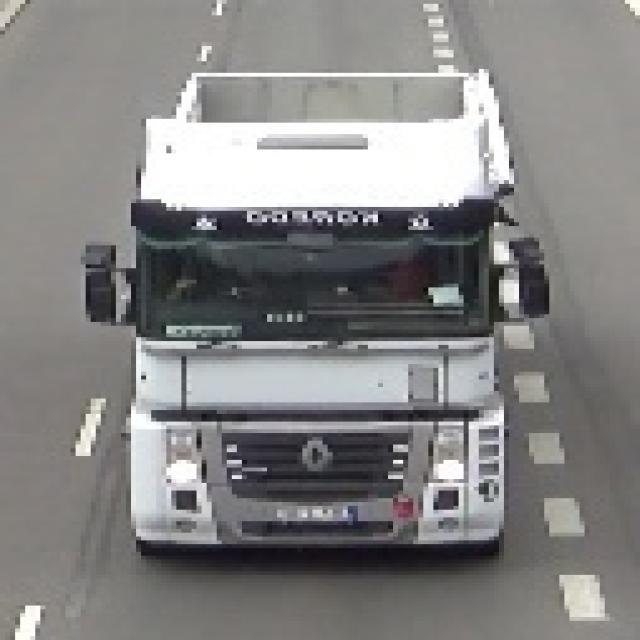TRUCK: (120, 70, 518, 573)
